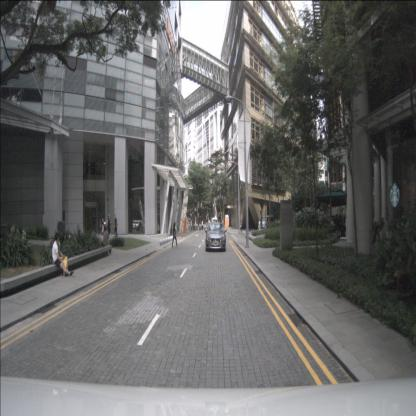human-pedestrian-adult: (52, 232, 74, 276), (172, 223, 178, 249), (107, 214, 111, 240), (101, 216, 106, 236), (114, 214, 118, 237), (240, 219, 243, 234), (197, 220, 200, 232), (201, 220, 204, 232)
vehicle-car: (206, 222, 226, 252), (258, 216, 275, 231), (135, 220, 144, 229), (132, 220, 140, 230), (211, 218, 217, 230)
